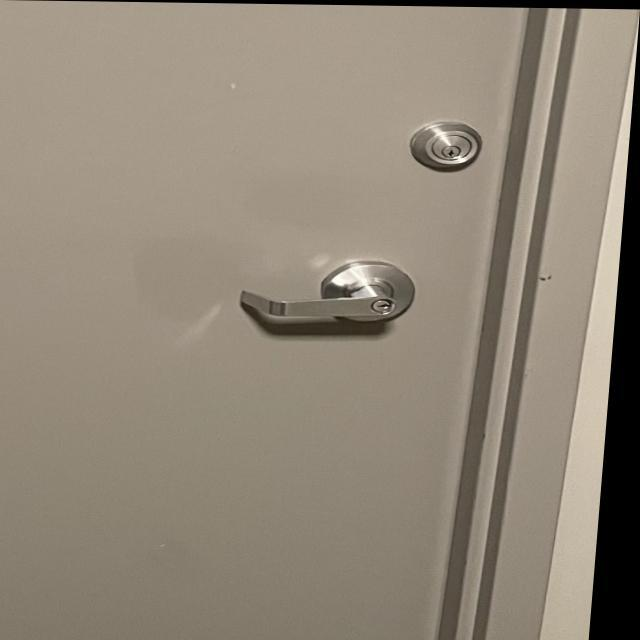door_handle: (210, 270, 433, 339)
